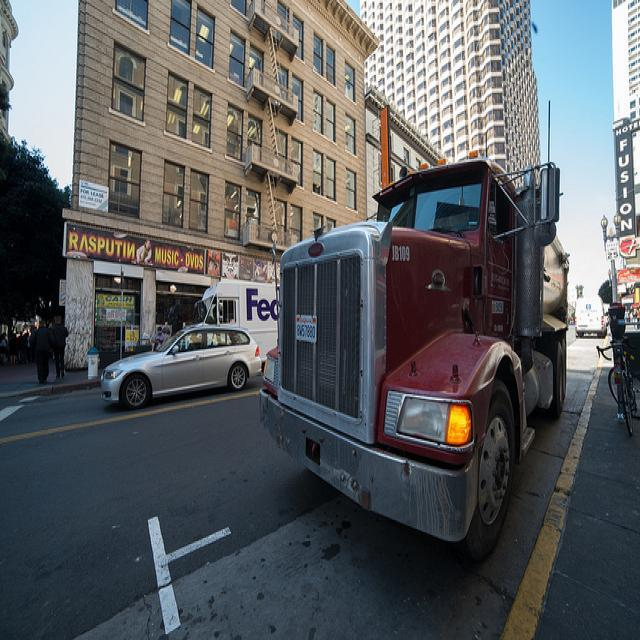fire_hydrant: (86, 346, 100, 378)
